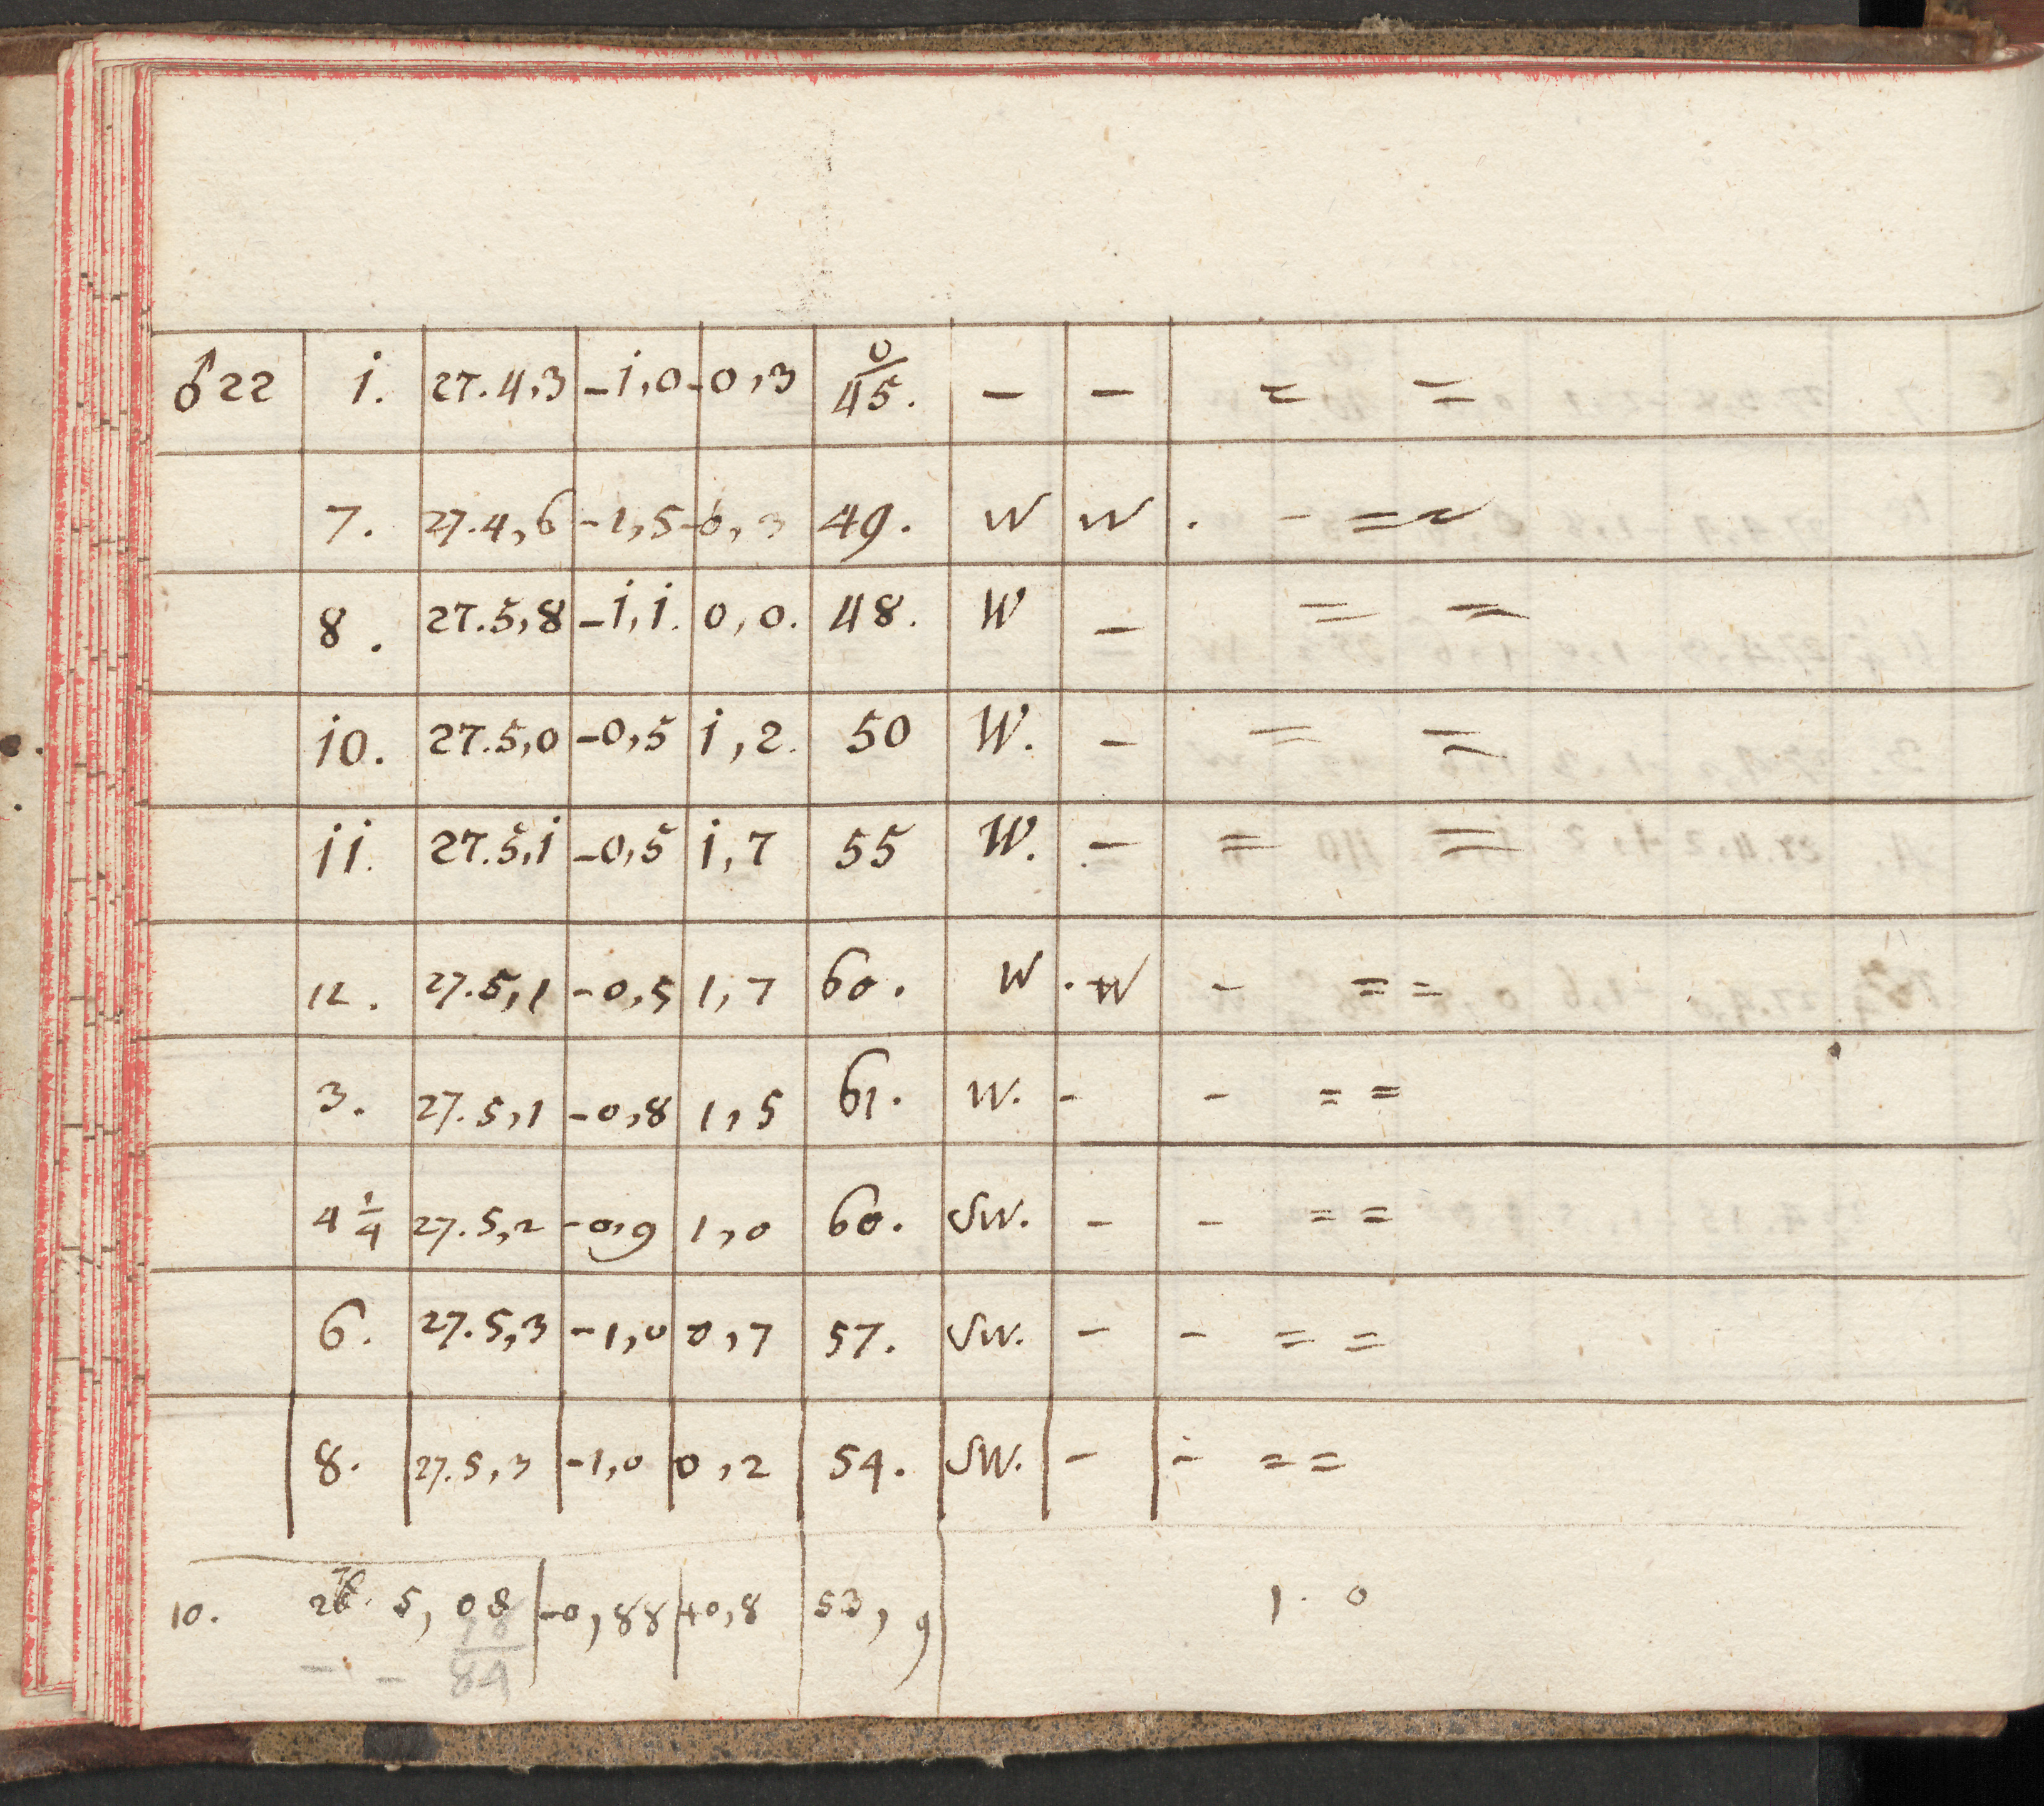bordered: (153, 331, 2013, 1710)
